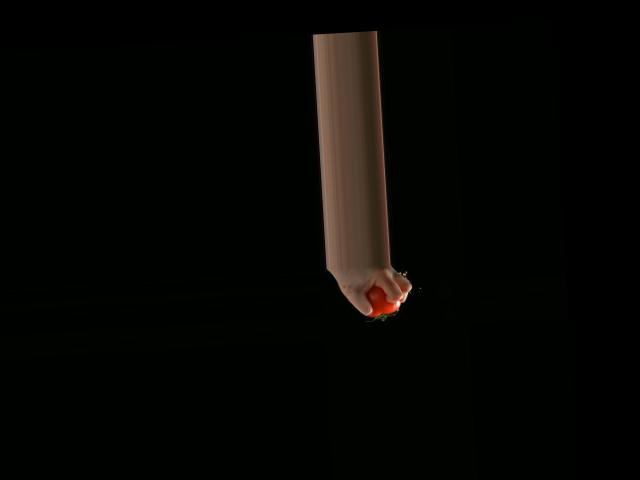tomato: (364, 284, 400, 317)
